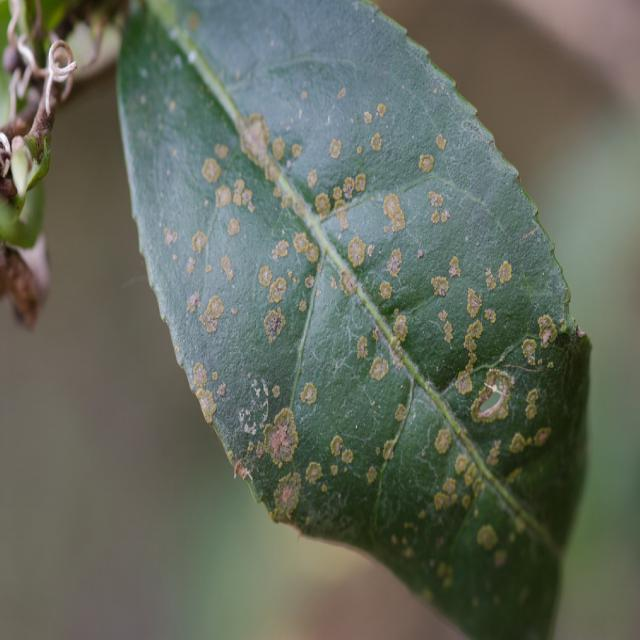Tea algae leaf spot: (175, 115, 568, 565)
